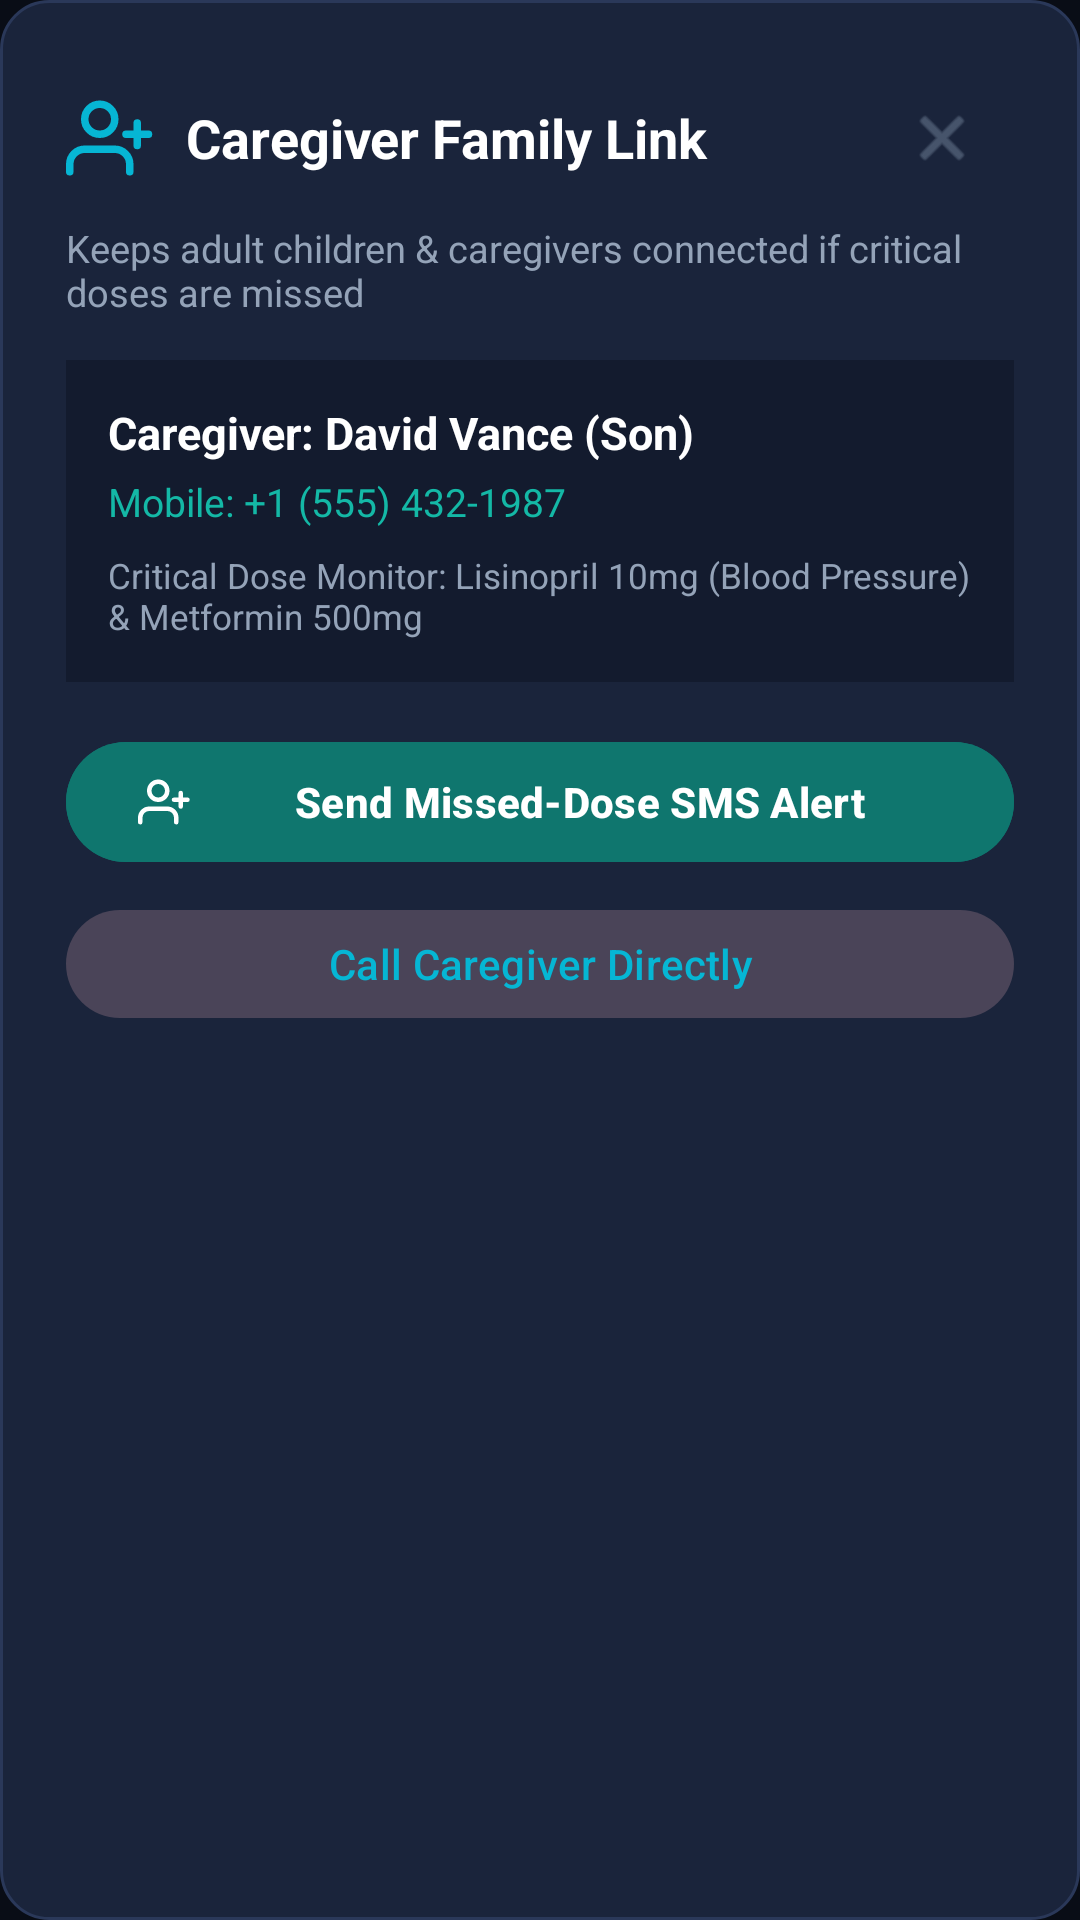

Where to tap for icons on this 1080px×1920px app screen, as point (x, y):
Close Caregiver Link: point (942, 138)
